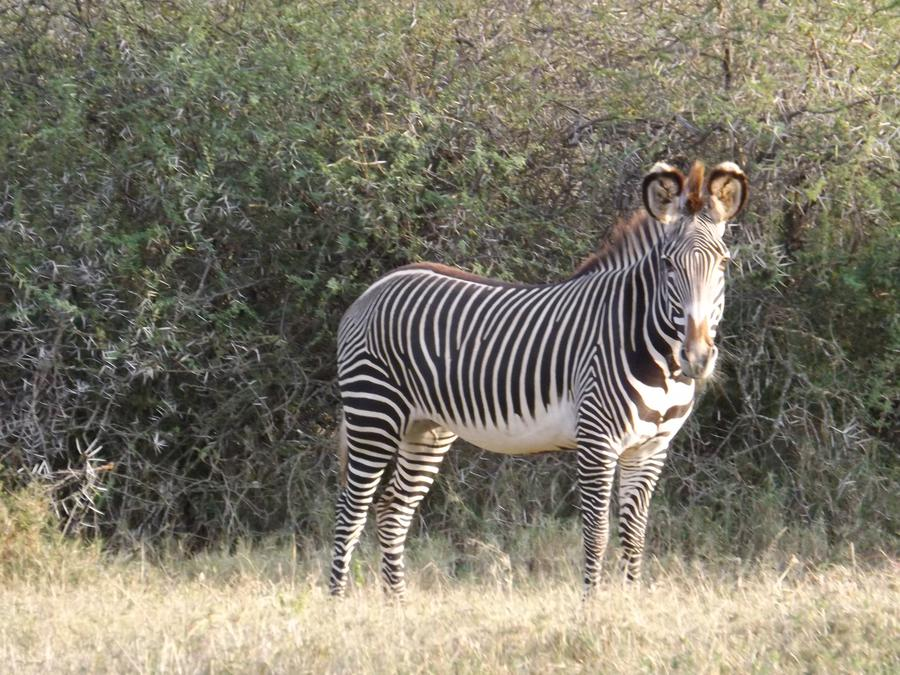zebra_grevys: (326, 242, 644, 452)
